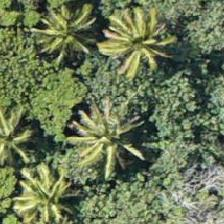coconut_tree: (96, 12, 186, 102), (55, 98, 145, 188), (25, 0, 115, 69), (0, 162, 88, 223), (0, 90, 59, 180)
